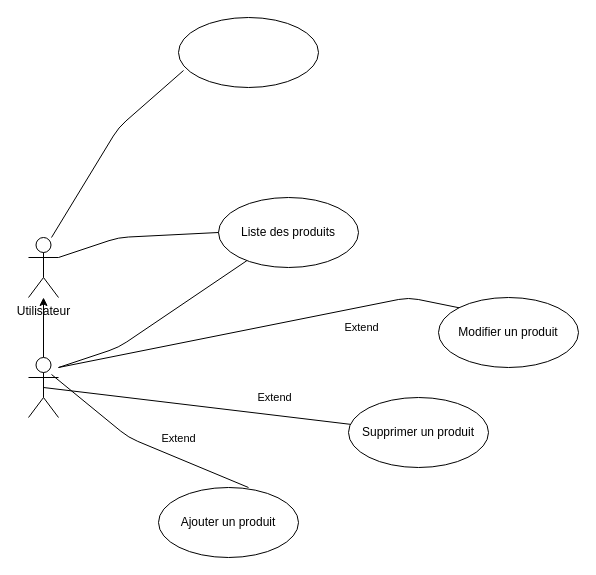
Some shapes in this 596 by 575 pixel diagram are drawn without their labels. Each missing label, with the centre of its shape:
Admin: [43,387]
Se connecter: [248,52]
